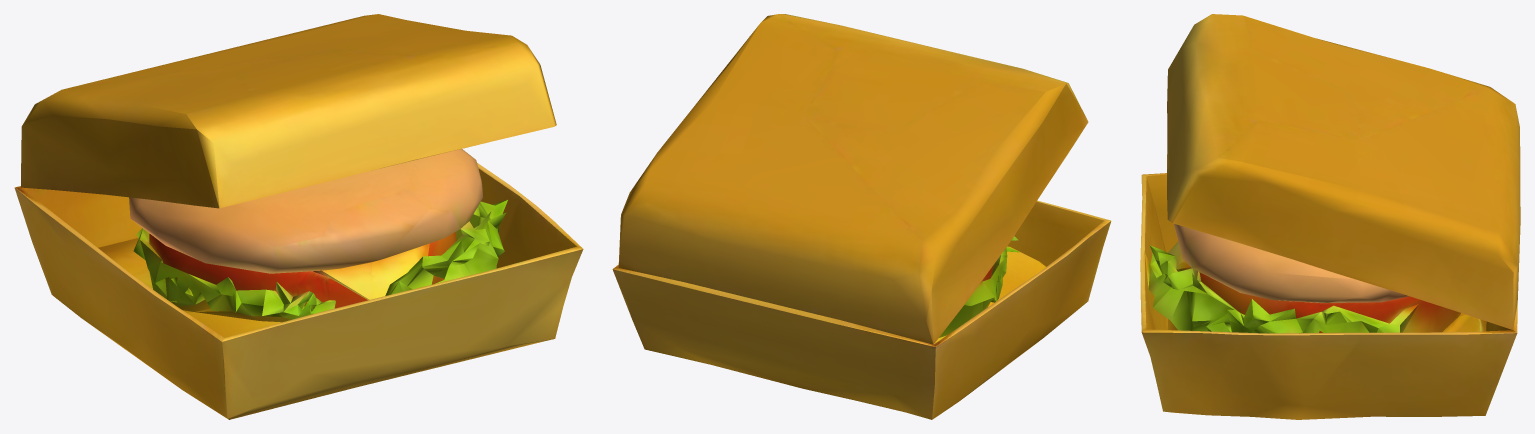
The model's file is foodBoxV2.glb.
The picture shows the model from 3 angles, left to right: view 1: azimuth 30°, elevation 25°; view 2: azimuth 150°, elevation 25°; view 3: azimuth 270°, elevation 25°; orthographic projection. The views are drawn at different scales.
Parts seen in each view (by area): view 1: model; view 2: model; view 3: model.
Boxes of the visible parts, bbox=[...] form: model: bbox=[14, 14, 583, 419]; model: bbox=[612, 14, 1111, 419]; model: bbox=[1140, 14, 1520, 419].
Bounding box in the file's own units: 1.9 × 1.34 × 1.8.
Materials: 1 (1 with a texture image).
